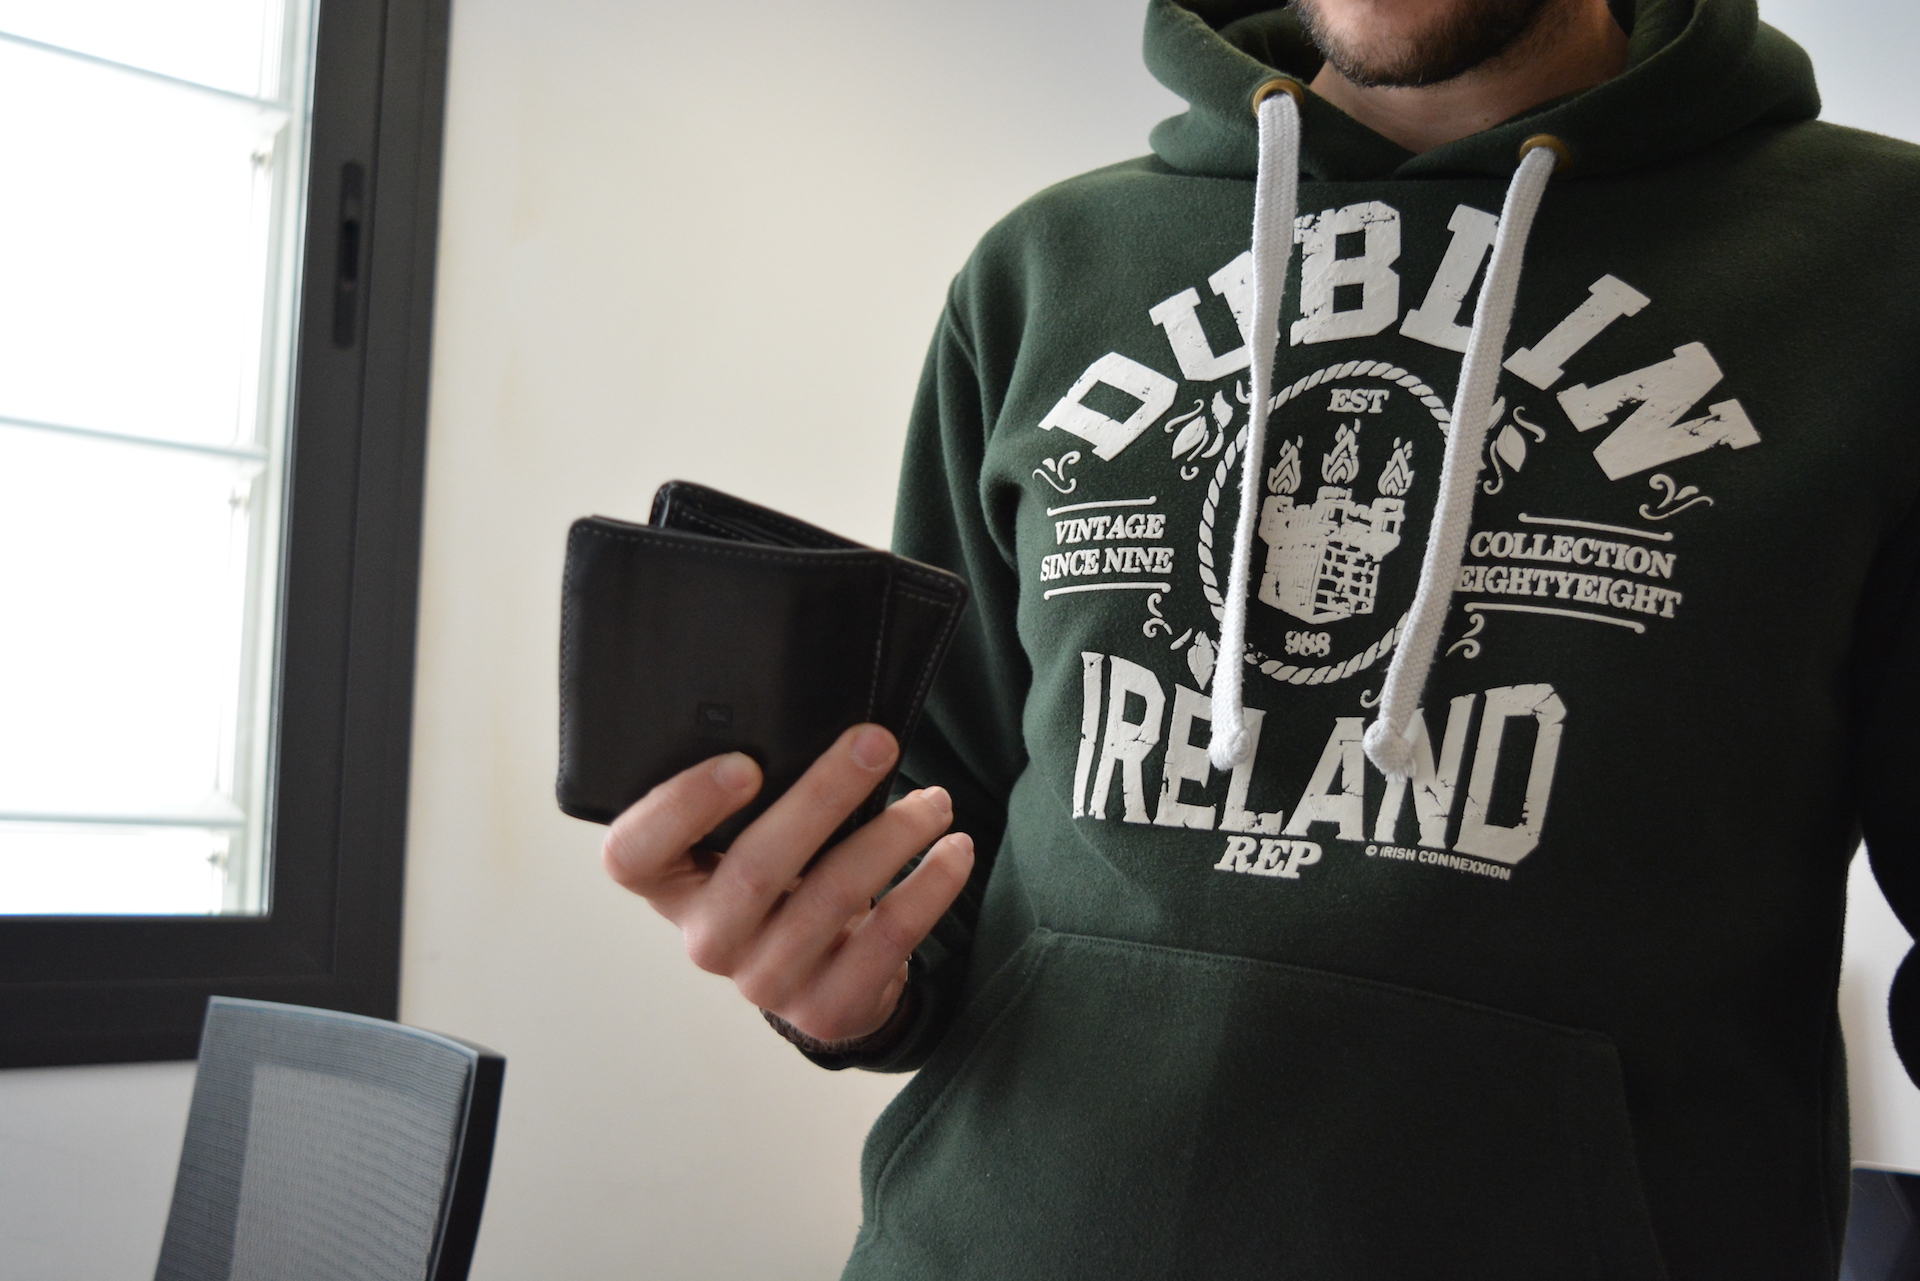monedero: (553, 476, 975, 881)
